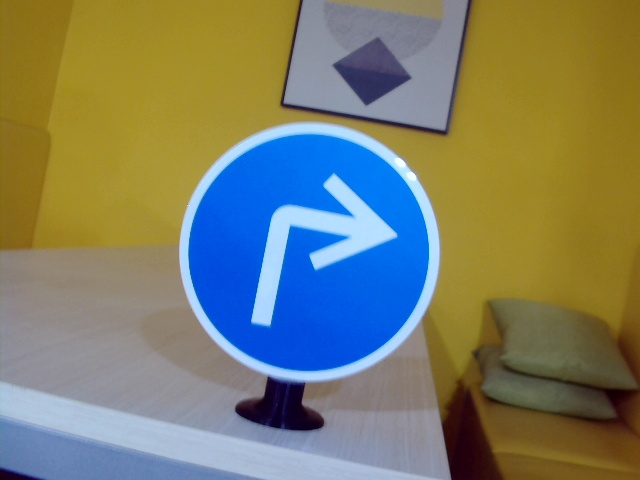turn_right: (252, 168, 397, 328)
